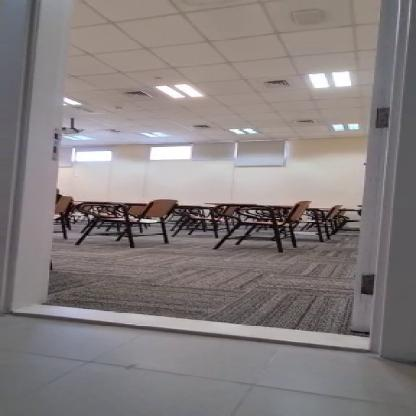open: (0, 0, 412, 372)
